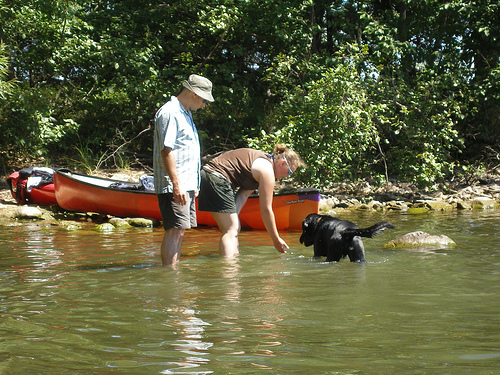without_mask: (273, 147, 302, 183), (182, 85, 213, 116)
